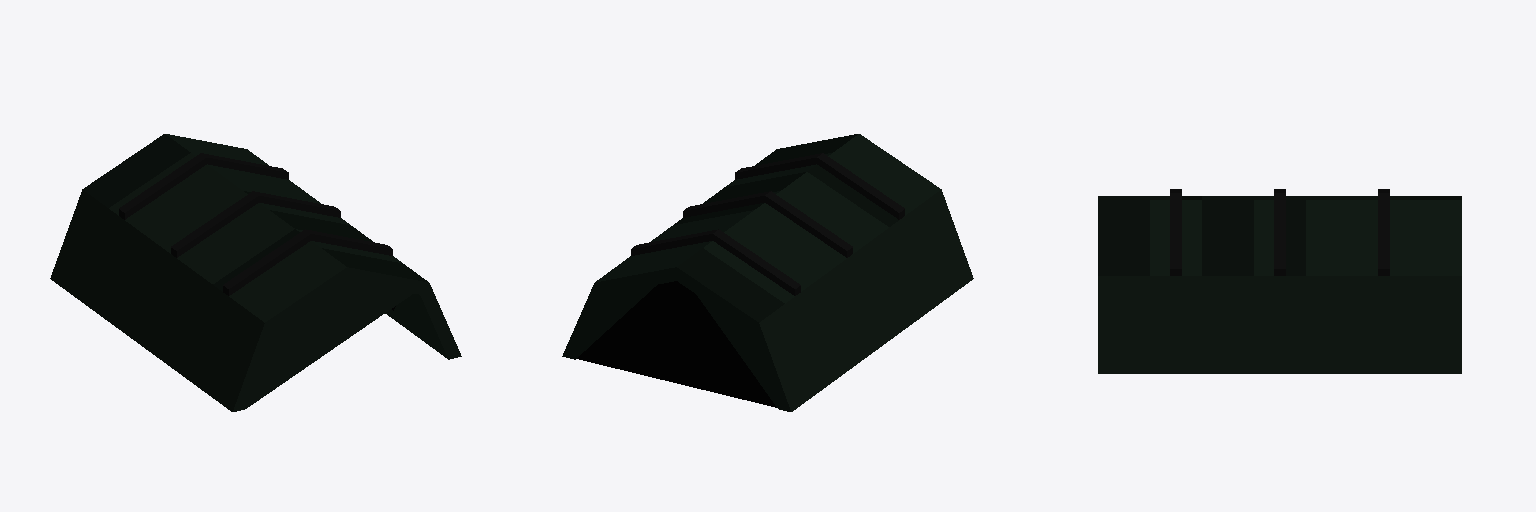
File: Hangar_1.obj
The picture shows the model from 3 angles: view 1: azimuth 30°, elevation 25°; view 2: azimuth 150°, elevation 25°; view 3: azimuth 270°, elevation 25°; orthographic projection.
Visible parts, largest first — view 1: Cylinder.000_Cylinder.002; view 2: Cylinder.000_Cylinder.002, Cylinder_Cylinder.005; view 3: Cylinder.000_Cylinder.002.
Part boxes in pixels (x1,y1,x2,y2): Cylinder.000_Cylinder.002: (50,134,461,411); Cylinder.000_Cylinder.002: (562,134,973,411); Cylinder_Cylinder.005: (577,281,776,407); Cylinder.000_Cylinder.002: (1098,189,1461,373).
Size of the model in its own units: 18.48 by 9.65 by 25.46.